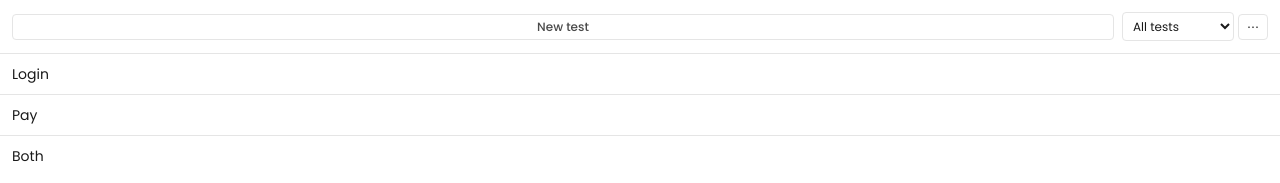
Test case: SuiteFilter › lists All tests plus each suite and filters the rows by suite
Expected: the text "Login" is shown 3 times, left=12, top=64, right=49, bottom=84; left=12, top=105, right=38, bottom=125; left=12, top=146, right=44, bottom=166
Select "Smoke" in the dropdown named "Suite": (1178, 26) left=1122, top=12, right=1234, bottom=41
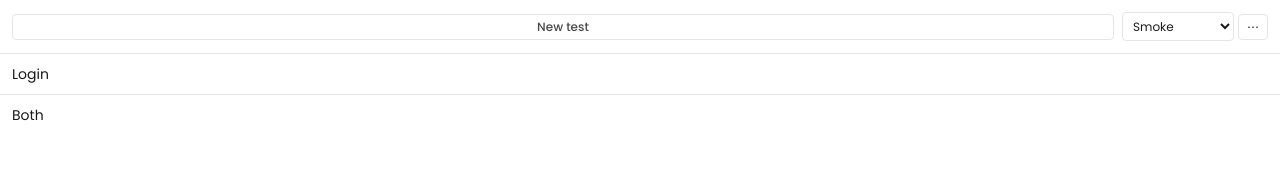
Expected: the text "Login" is shown, left=12, top=64, right=49, bottom=84
Now the button "Pay" is gone
Select "All tests" in the dropdown named "Suite": (1178, 26) left=1122, top=12, right=1234, bottom=41
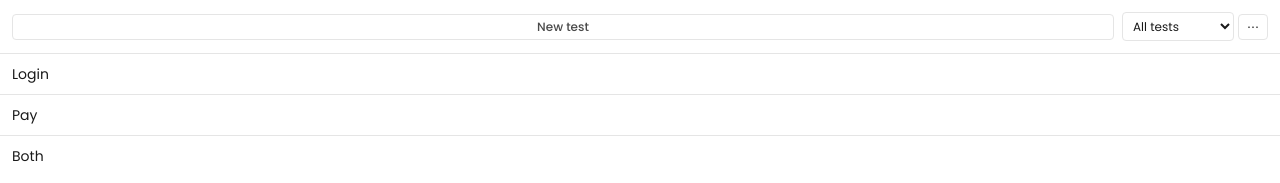
Now the text "Pay" is shown, box left=12, top=105, right=38, bottom=125
